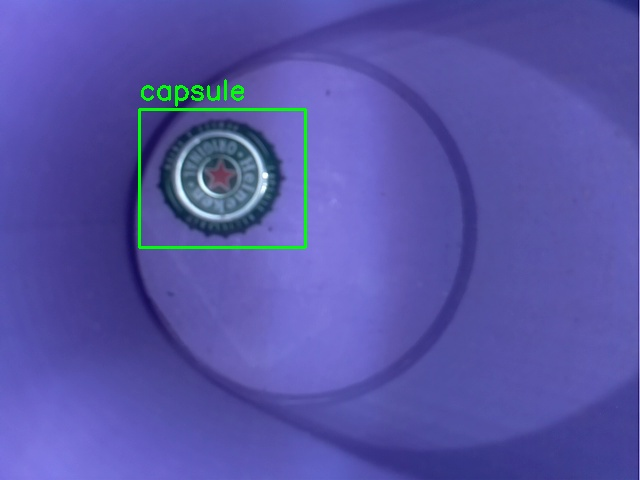capsule: (139, 109, 305, 247)
